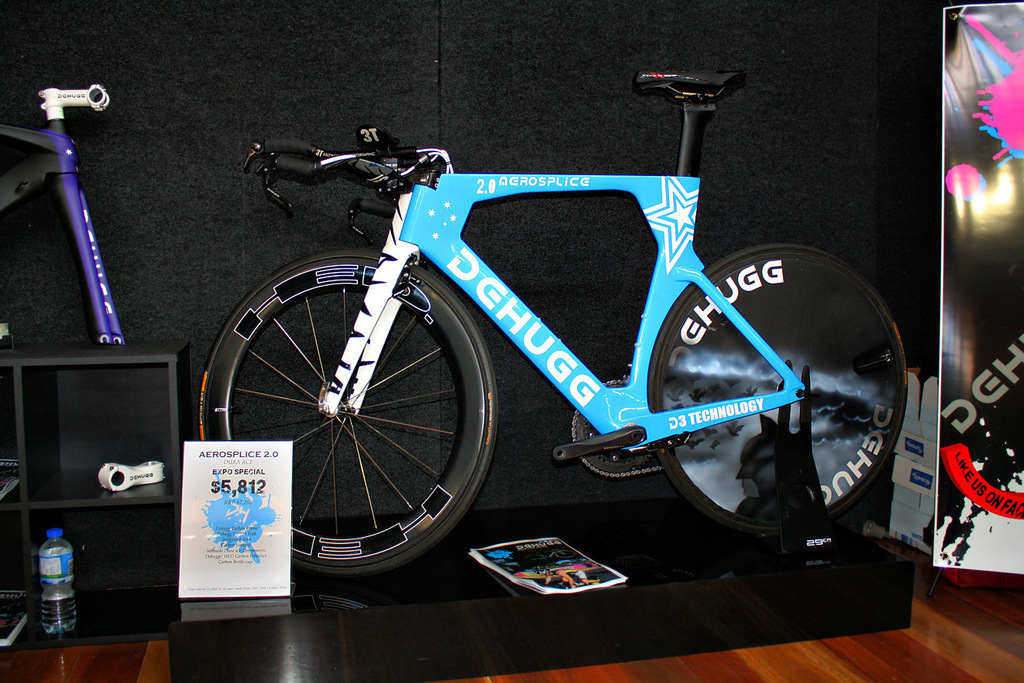Bike_toward: (188, 86, 880, 536)
